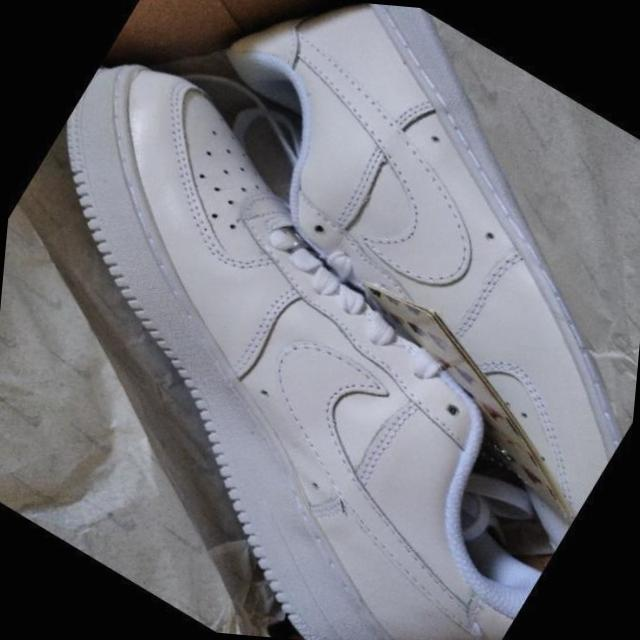nike_fake_airforce: (0, 29, 640, 640), (74, 0, 640, 533)
